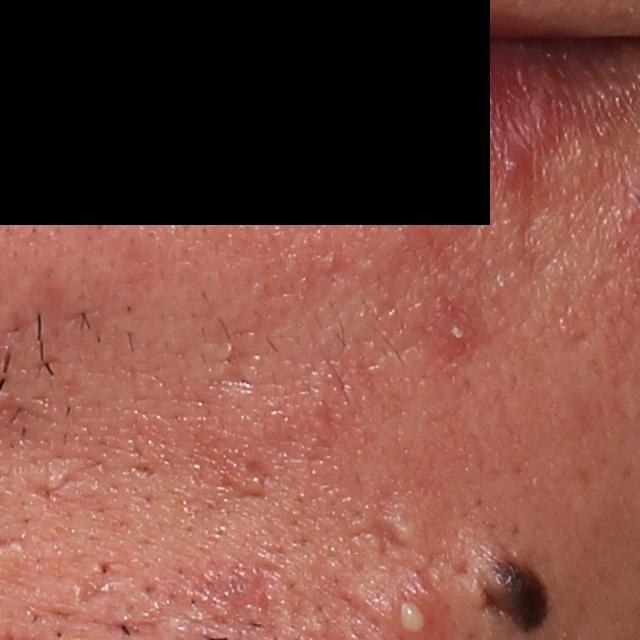atrophic_scar: (71, 557, 134, 607), (228, 455, 280, 507), (362, 503, 401, 559), (129, 460, 160, 482)
nevus: (470, 550, 560, 638)
papule: (496, 150, 525, 181)
pustule: (391, 597, 433, 638), (443, 314, 475, 345)
